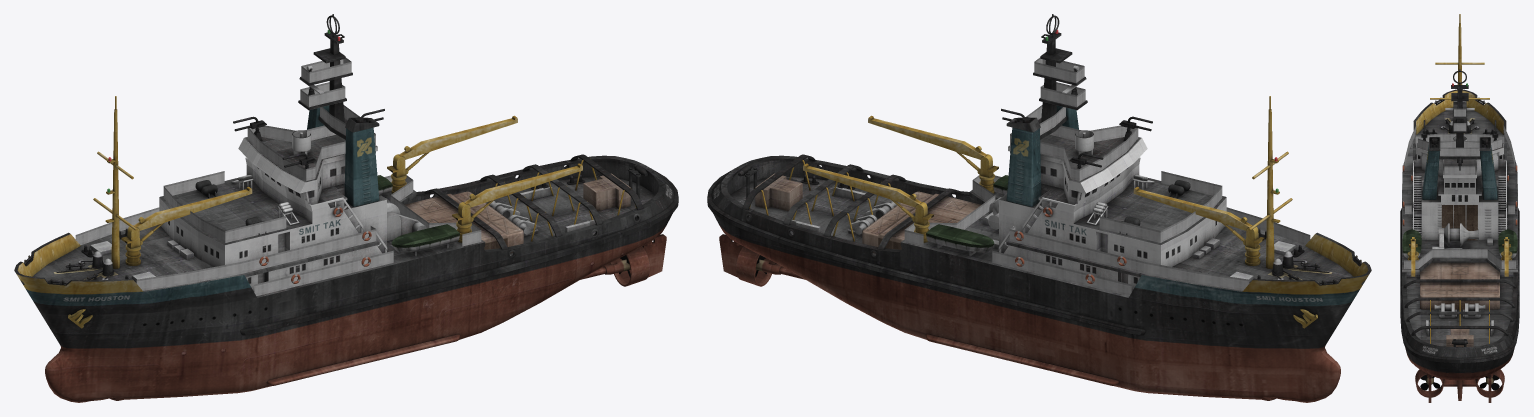
Rendered from SmitHouston_Tug.glb.
3 views of the same model, side by side, from view 1: azimuth 30°, elevation 25°; view 2: azimuth 150°, elevation 25°; view 3: azimuth 270°, elevation 25° (orthographic). The views are drawn at different scales.
Parts seen in each view (by area): view 1: Smit_Houston_01, Crabe_Front_01.001; view 2: Smit_Houston_01, Crabe_Front_01.001; view 3: Smit_Houston_01.
Boxes of the visible parts, <box> form: Smit_Houston_01: <box>14,14,678,402</box>; Crabe_Front_01.001: <box>121,186,252,265</box>; Smit_Houston_01: <box>707,14,1371,402</box>; Crabe_Front_01.001: <box>1133,186,1264,265</box>; Smit_Houston_01: <box>1400,14,1519,402</box>.
Size of the model in its own units: 13.48 by 6.43 by 3.
1 material, 1 textured.
